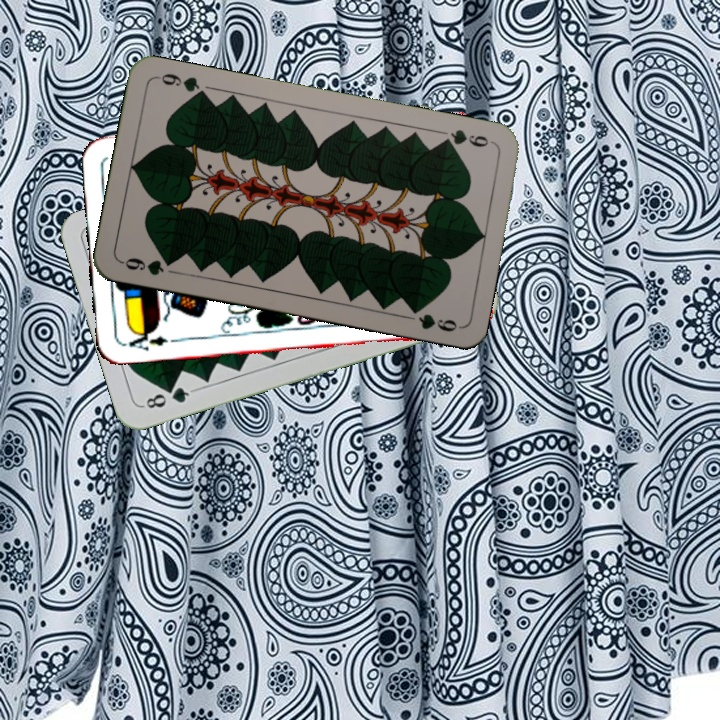EA: (120, 326, 179, 354)
G8: (139, 383, 197, 412)
G9: (117, 253, 178, 278), (436, 125, 496, 150)
